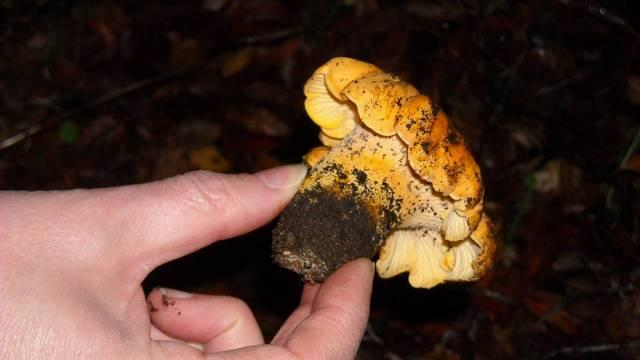Edible Mushroom: (269, 55, 497, 290)
